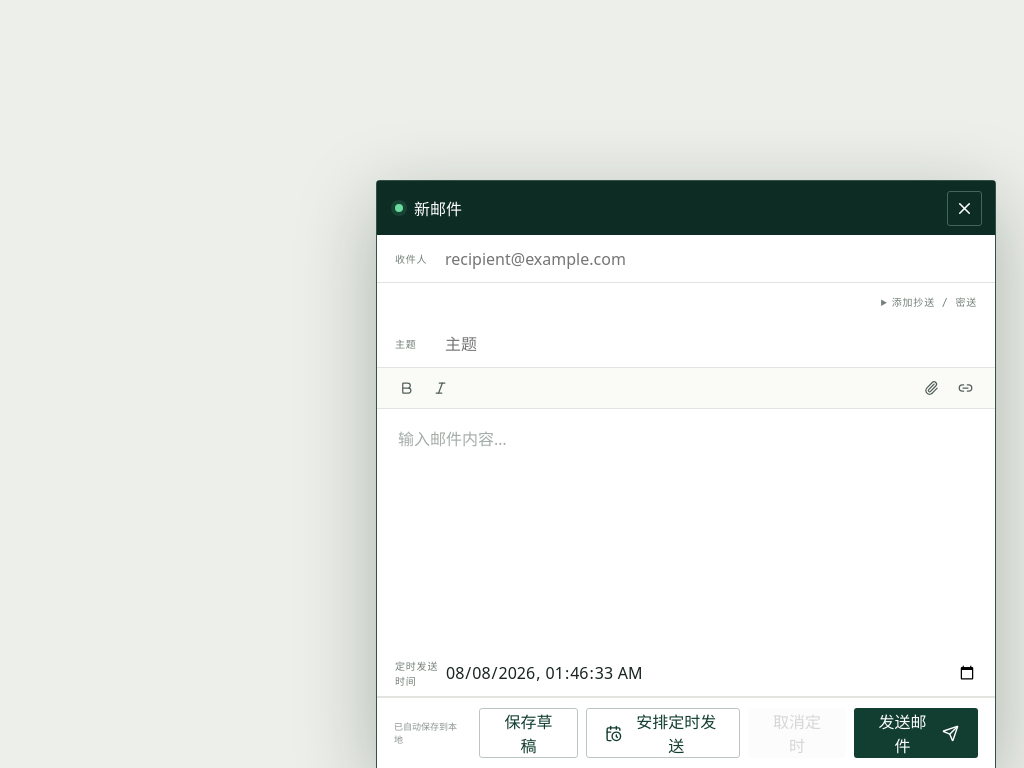
Scenario: ComposePanel › reports an empty recipient with translated validation instead of sending
The width and height of the screenshot is (1024, 768).
Click the button "发送邮件" at (916, 733), box [854,708,978,758]
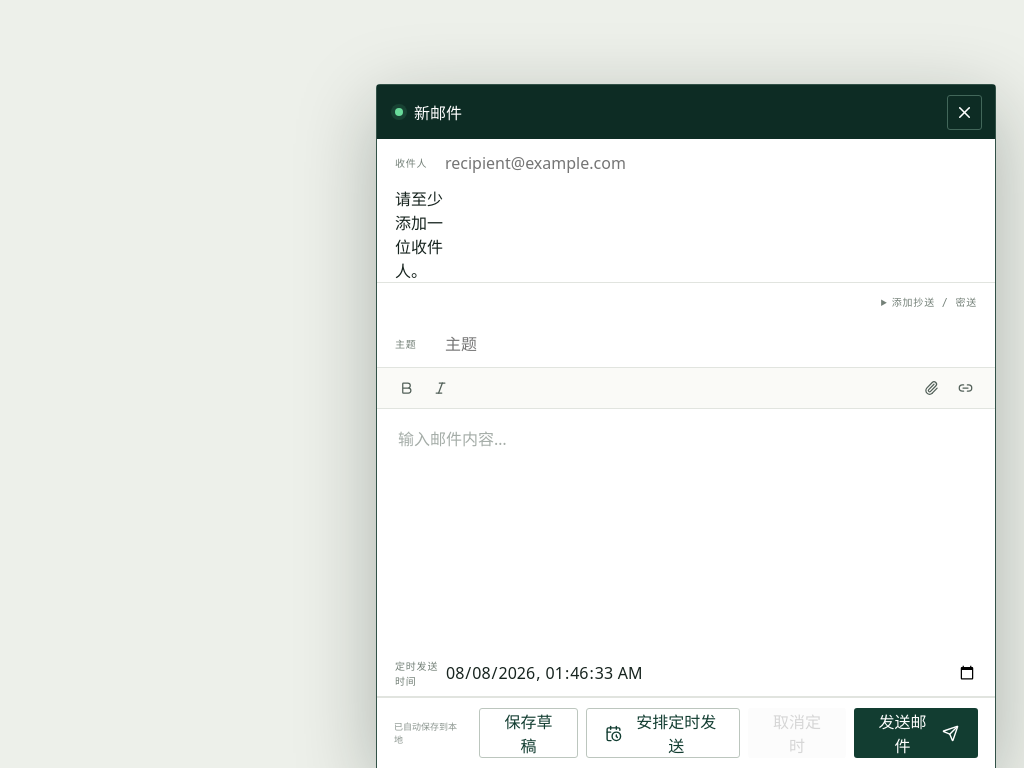
Now the message reads "请至少添加一位收件人。", box [395,188,443,282]
